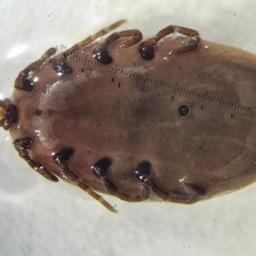Rhipicephalus sanguineus: (0, 17, 256, 214)
